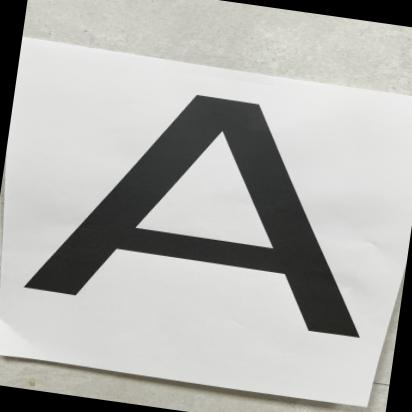seat: (11, 47, 398, 368)
